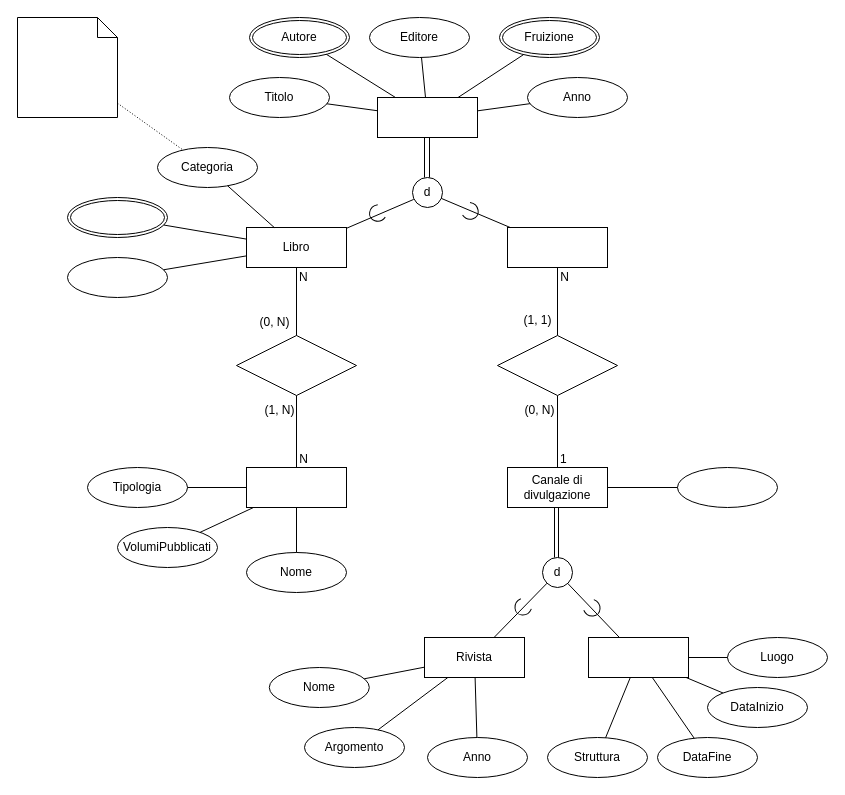
Image size: 845x795. Some labels were removed from this diagram. Here are the shapes that lost their labels. From the top down, the centre of each, then its label:
pixel 67 67: Si considera la "narrativa" come categoria
pixel 427 117: Pubblicazione
pixel 117 217: Sala/Libreria
pixel 557 247: Articolo
pixel 117 277: DataUscita
pixel 296 365: Appartiene
pixel 557 365: Pubblicato
pixel 296 487: Collana
pixel 727 487: Responsabile
pixel 638 657: Conferenza
